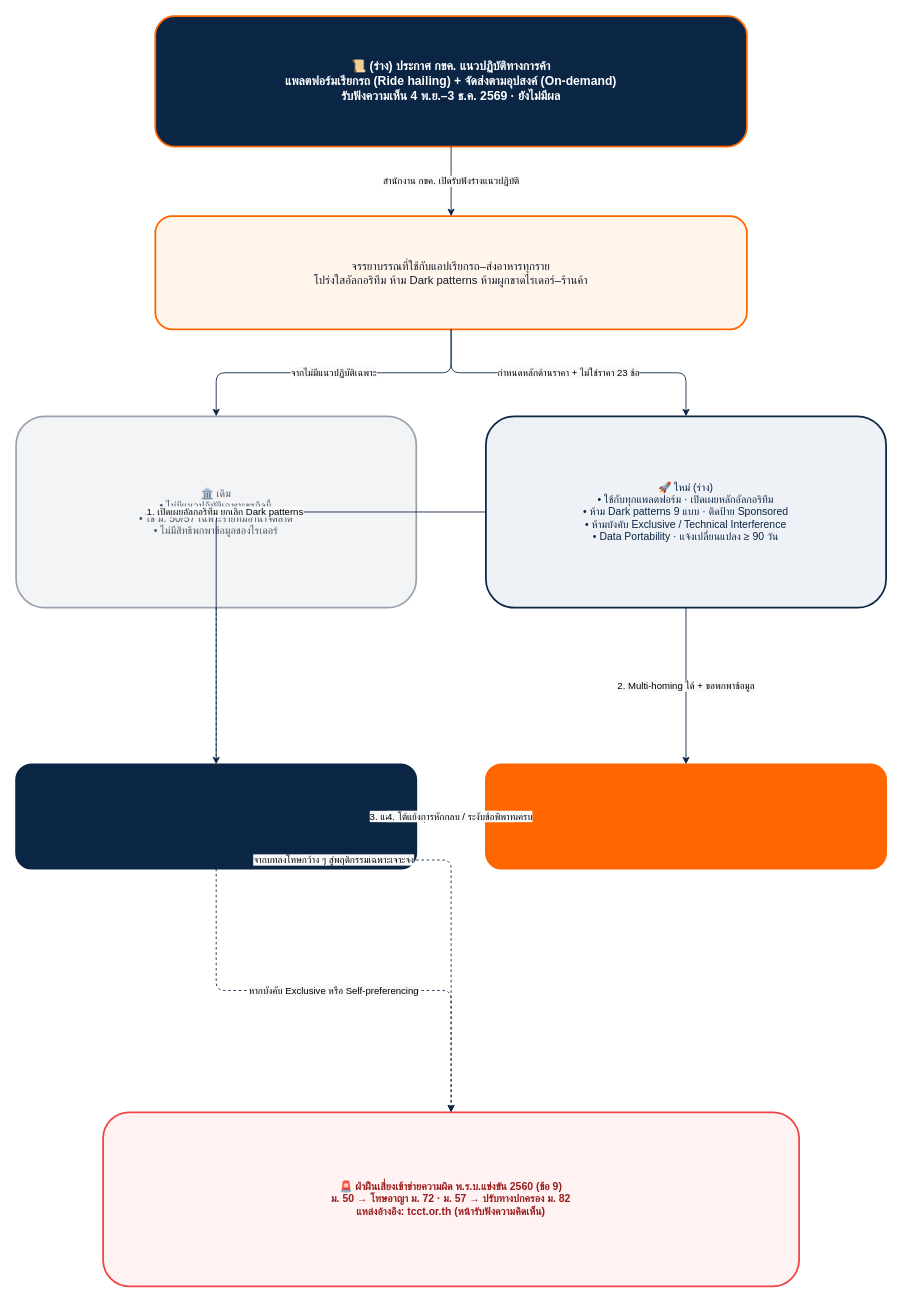
This 901x1302 diagram has some shape labels left out. The shapes that lost their labels are listed below. From the top down, each one's centre as x and y in pixels, then its label:
(x=216, y=816): 🏢 แพลตฟอร์มเรียกรถ / ส่งอาหาร / Quick Commerce
(x=686, y=816): 👤 ไรเดอร์–คนขับ / ร้านค้า / ผู้บริโภค
